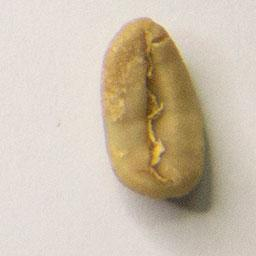longberry: (94, 12, 211, 200)
